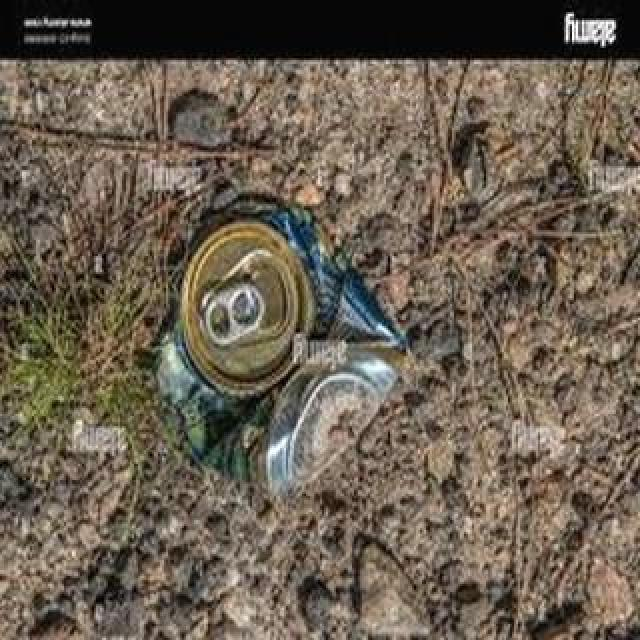Can: (148, 190, 408, 498)
